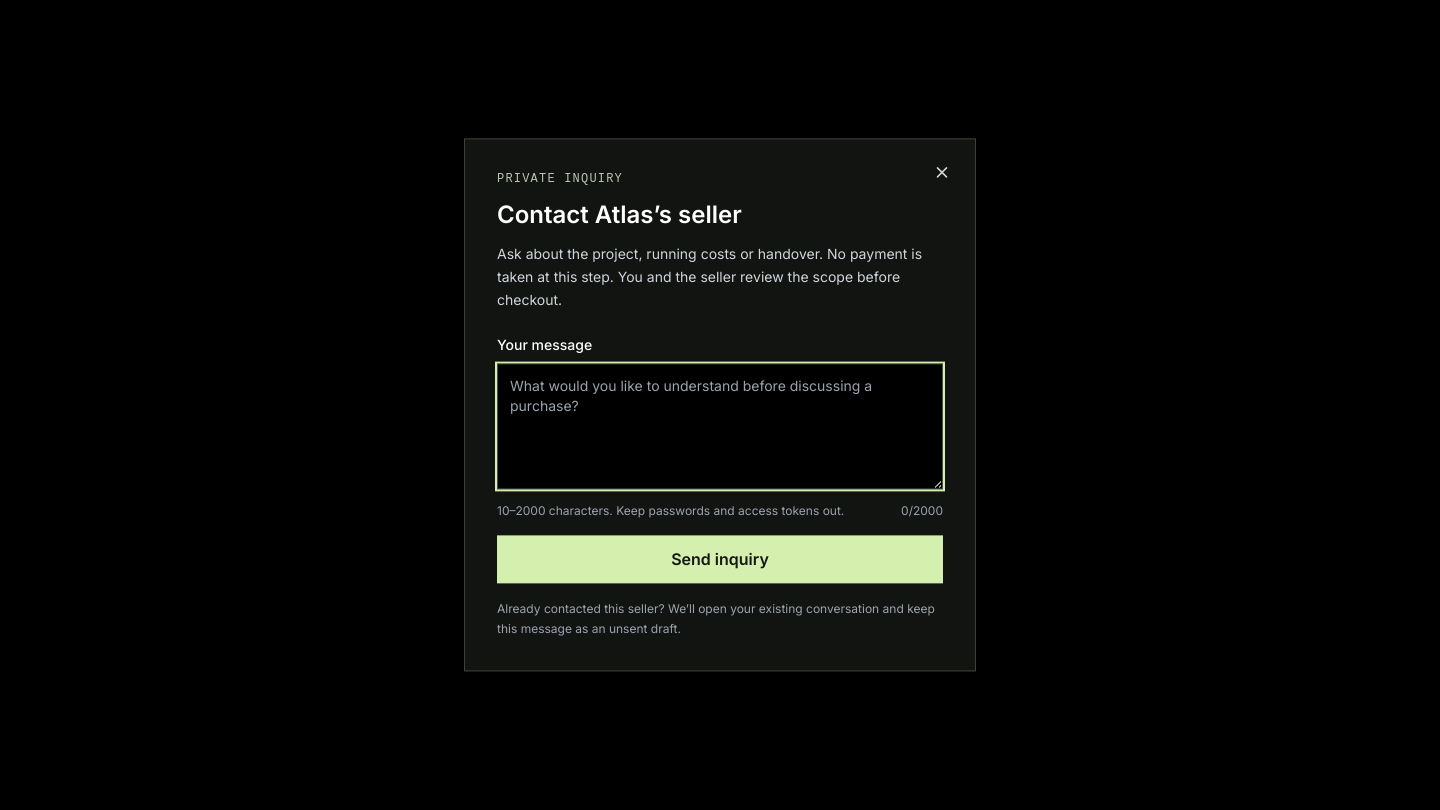
Test: a private inquiry needs a message, with no payment commitments, then opens its conversation
Later steps or results of the test are not shown.
Click the button "Send inquiry". click: (720, 560)
box: [497,536,943,584]
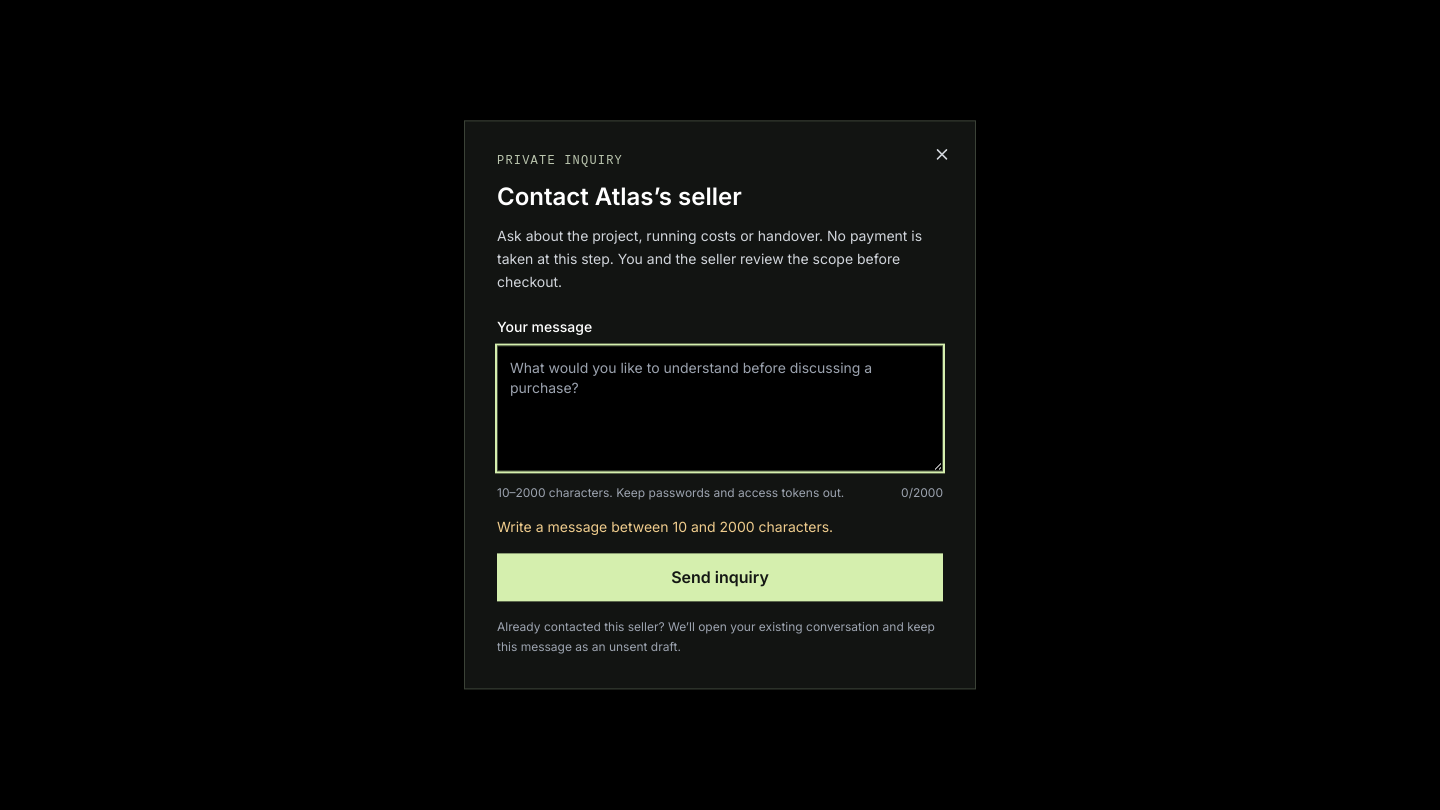
Expected: the message shows "10 and 2000", [497,519,833,536]
